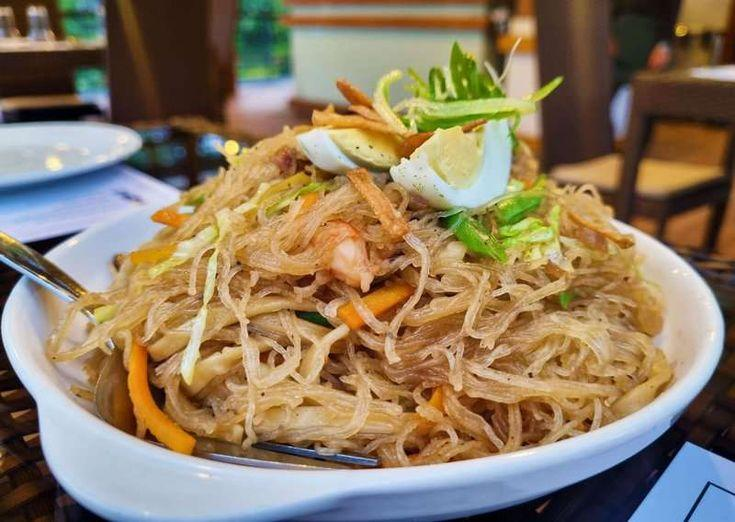pancit bihon: (20, 74, 719, 513)
